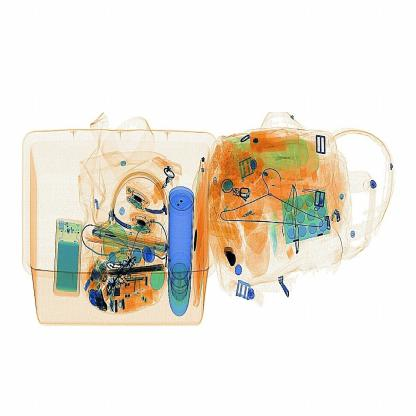wrench: (223, 244, 243, 275)
